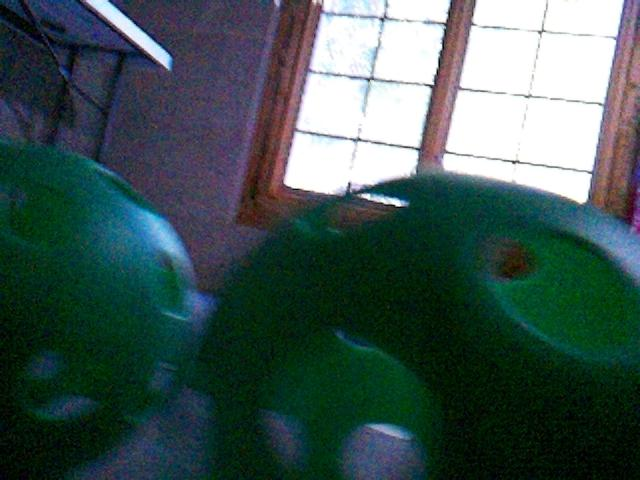Green: (198, 170, 640, 480), (3, 141, 196, 475)
